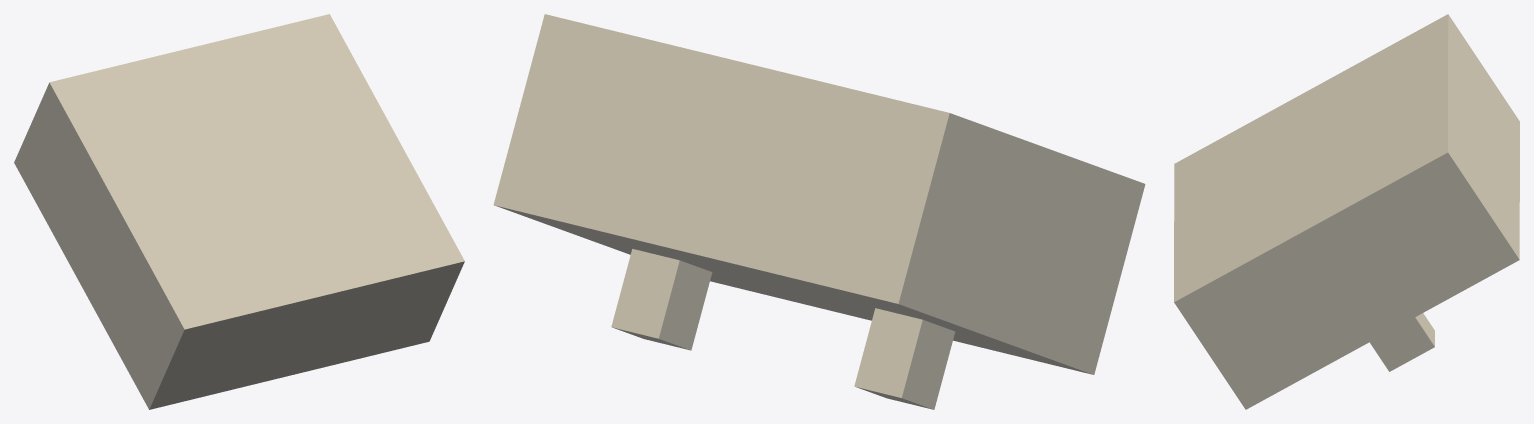
File: BRAT_M3_FRONT_3_1.glb
The picture shows the model from 3 angles, left to right: view 1: azimuth 30°, elevation 25°; view 2: azimuth 150°, elevation 25°; view 3: azimuth 270°, elevation 25°; orthographic projection. The views are drawn at different scales.
Visible parts, largest first — view 1: BRAT_M3_FRONT_3_1.001; view 2: BRAT_M3_FRONT_3_1.001; view 3: BRAT_M3_FRONT_3_1.001.
Boxes of the visible parts, bbox=[...] form: BRAT_M3_FRONT_3_1.001: bbox=[14, 14, 464, 409]; BRAT_M3_FRONT_3_1.001: bbox=[493, 14, 1145, 409]; BRAT_M3_FRONT_3_1.001: bbox=[1174, 14, 1519, 409].
Bounding box in the file's own units: 0.3072 × 0.2664 × 0.3241.
